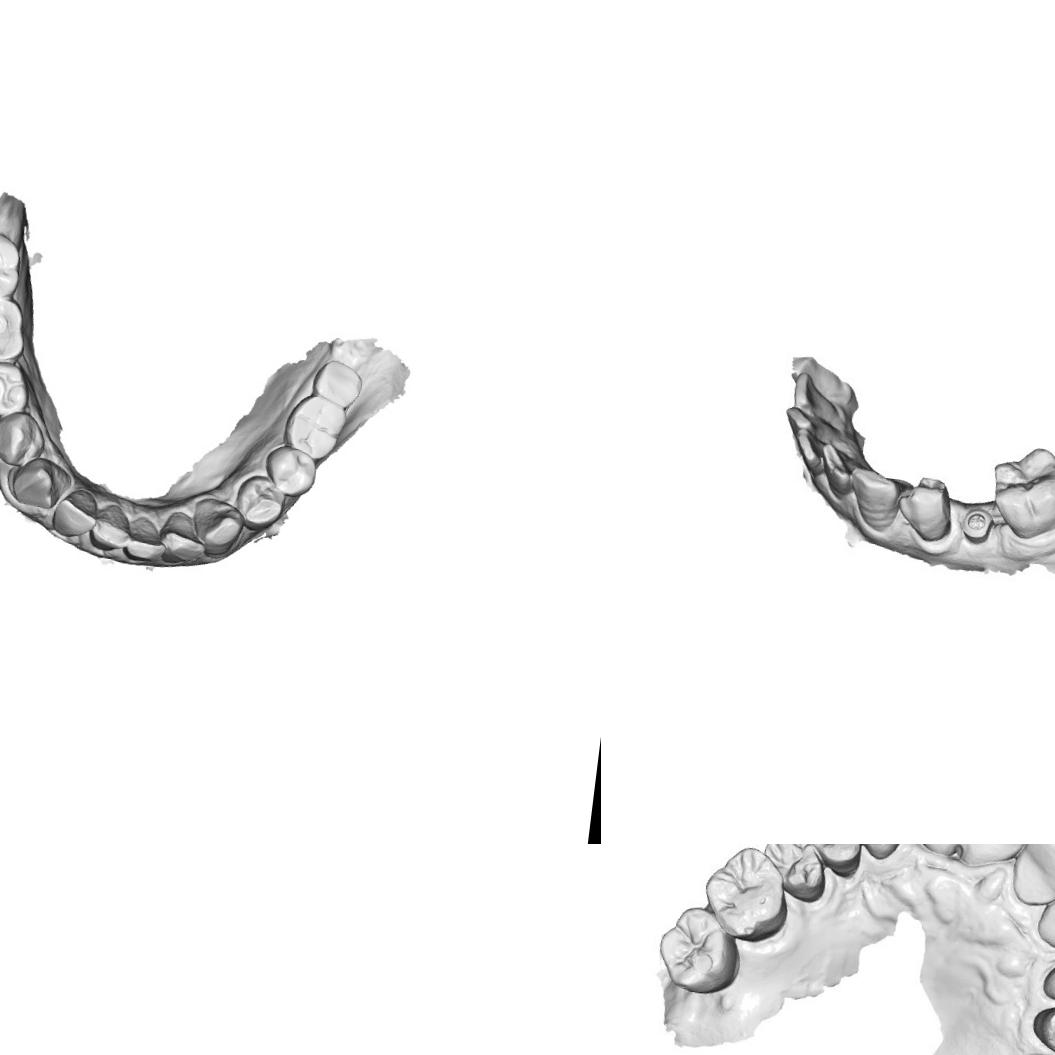canine: (840, 462, 906, 535), (5, 453, 71, 513), (188, 494, 246, 560), (850, 844, 914, 867), (1035, 944, 1055, 1012)
implant: (955, 506, 999, 548)
incisor: (787, 374, 850, 430), (48, 487, 102, 541), (86, 500, 138, 556), (158, 508, 207, 567), (816, 439, 864, 496), (121, 514, 170, 568), (778, 404, 832, 453), (1013, 844, 1055, 906), (791, 426, 829, 478), (965, 844, 1038, 868), (1035, 882, 1055, 952)
molar: (650, 901, 748, 999), (699, 844, 792, 947), (985, 440, 1055, 544), (281, 389, 349, 464), (307, 357, 366, 409), (0, 290, 28, 371), (0, 224, 27, 303)
premolar: (892, 472, 960, 544), (758, 844, 830, 902), (232, 468, 290, 535), (262, 441, 323, 501), (0, 408, 51, 469), (800, 844, 869, 883), (0, 356, 32, 419), (1029, 1000, 1055, 1055)
